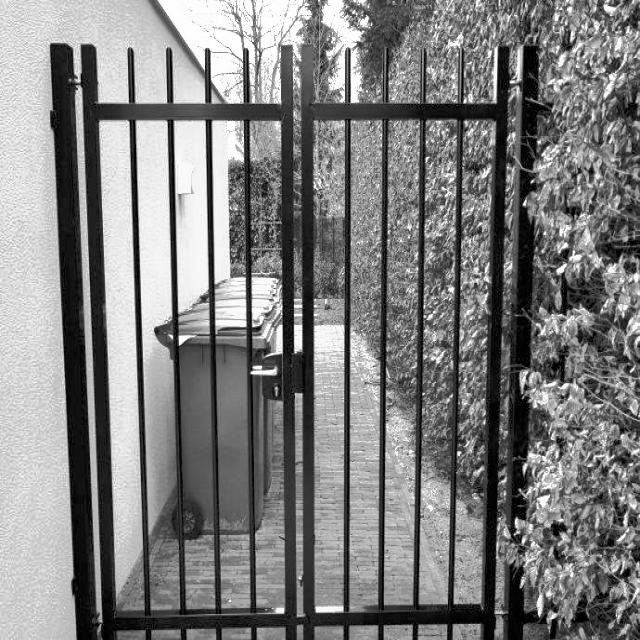fences: (83, 34, 520, 640)
